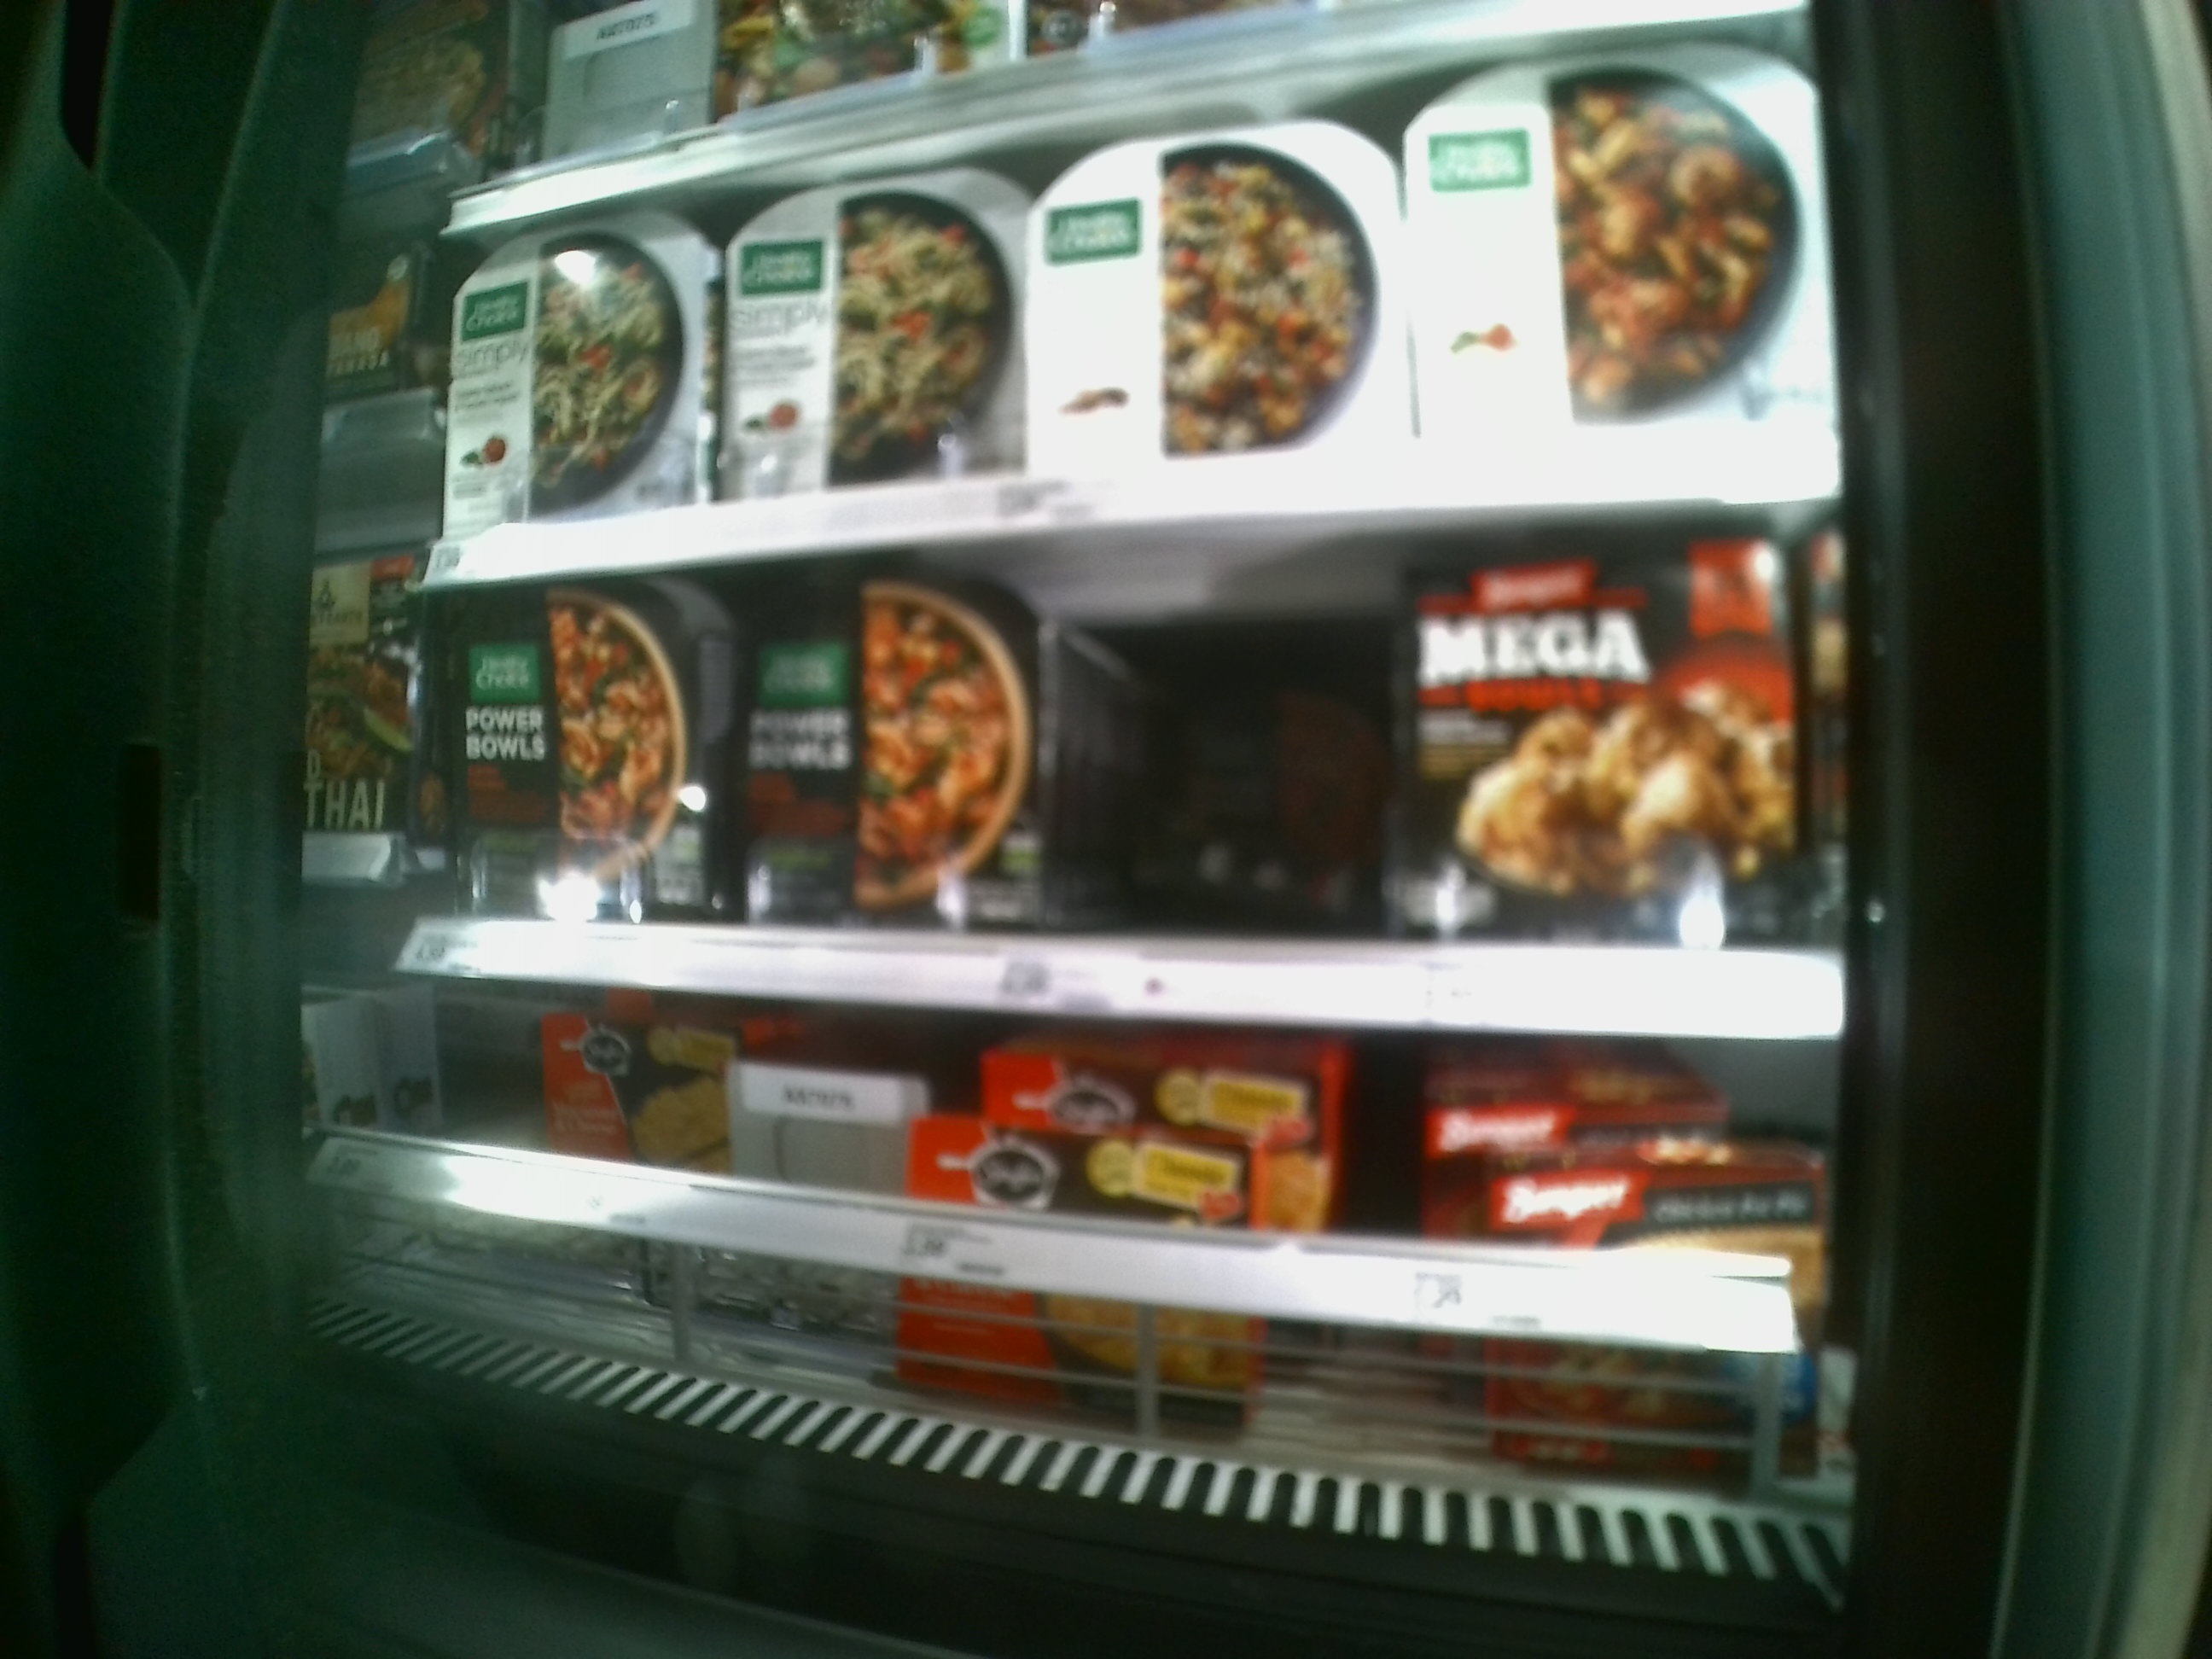shelf: (334, 979, 1844, 1493), (411, 495, 1839, 1037)
